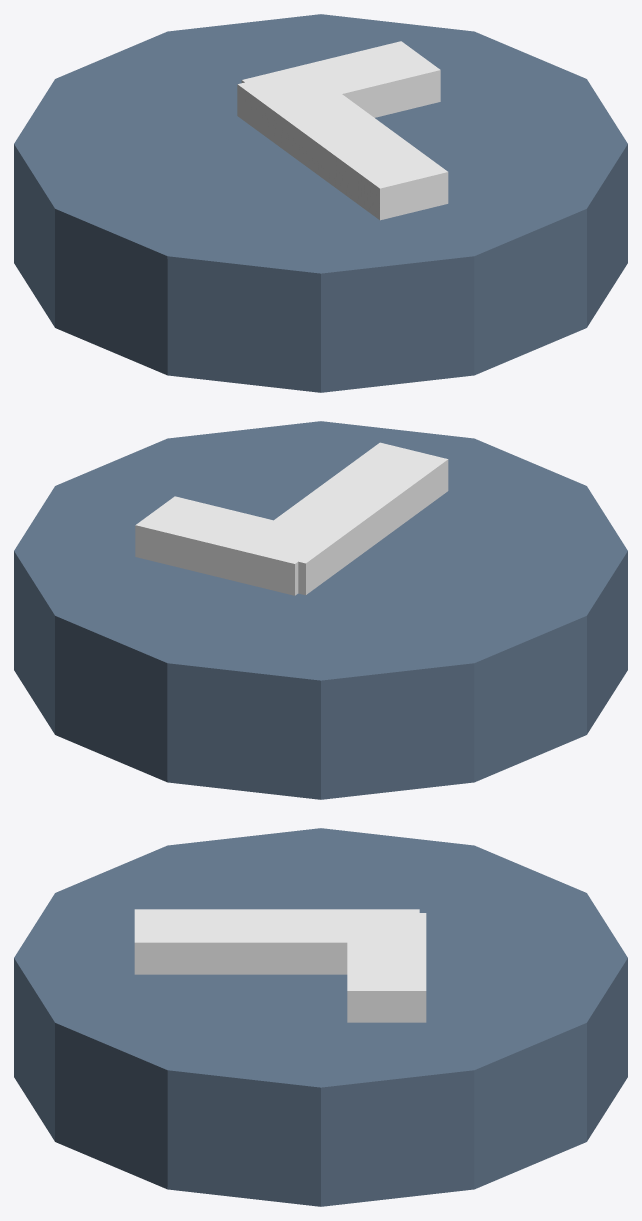
The model's file is Link_Port_Output_Free_v001.fbx.
The picture shows the model from 3 angles, top to bottom: view 1: azimuth 30°, elevation 25°; view 2: azimuth 150°, elevation 25°; view 3: azimuth 270°, elevation 25°; orthographic projection.
Parts seen in each view (by area): view 1: PortDisc, PortDirection, PortDirection.001; view 2: PortDisc, PortDirection, PortDirection.001; view 3: PortDisc, PortDirection, PortDirection.001.
Boxes of the visible parts, box(x1,y1,x2,y2) form: PortDisc: box(14, 14, 627, 392); PortDirection: box(237, 67, 448, 220); PortDirection.001: box(241, 41, 440, 117); PortDisc: box(14, 421, 627, 799); PortDirection: box(238, 442, 448, 595); PortDirection.001: box(135, 496, 333, 595); PortDisc: box(14, 828, 627, 1206); PortDirection: box(134, 909, 419, 974); PortDirection.001: box(347, 913, 426, 1022).
Bounding box in the file's own units: 14 × 3.8 × 14.
